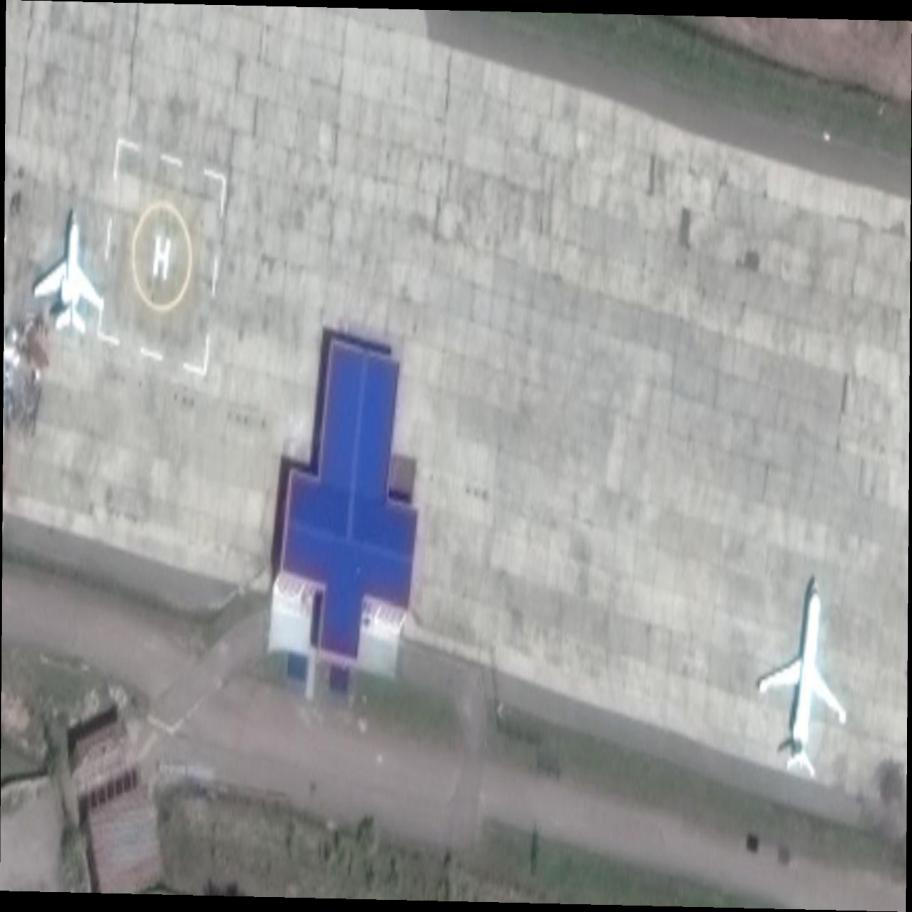plane: (749, 564, 866, 790), (35, 205, 111, 339)
